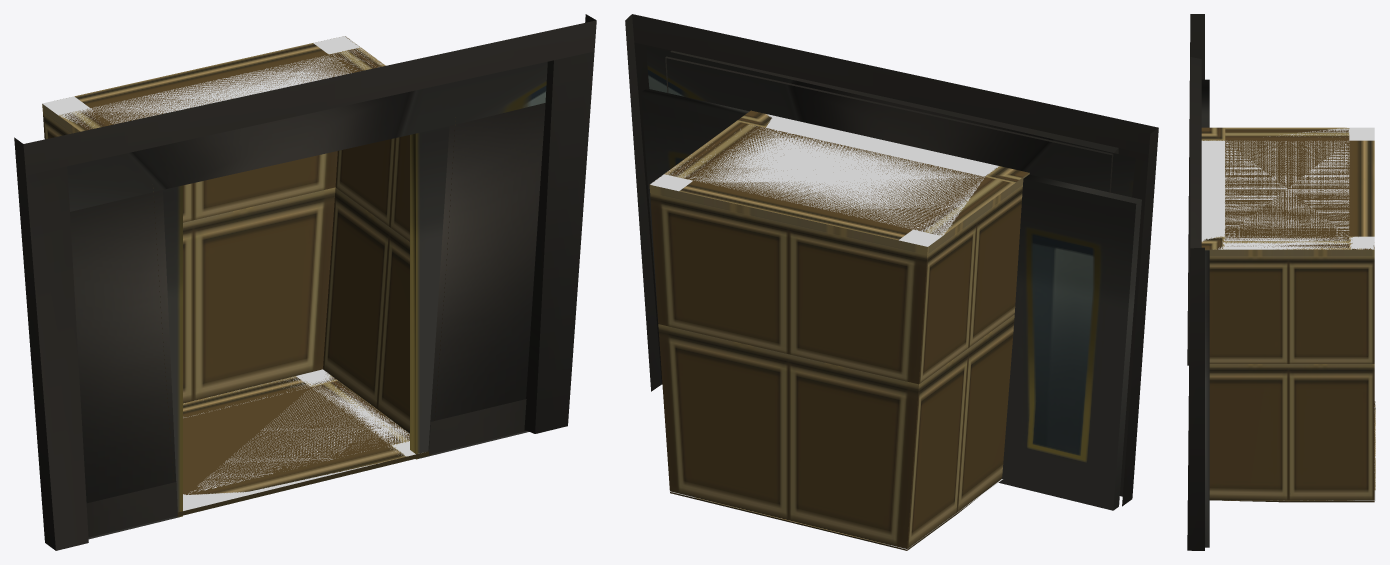
Rendered from cogdo_elevator.fbx.
3 renders of one model, left to right at view 1: azimuth 30°, elevation 25°; view 2: azimuth 150°, elevation 25°; view 3: azimuth 270°, elevation 25°, orthographic. The views are drawn at different scales.
Visible parts, largest first — view 1: elevator, frame, decal_base, decal_base1, unnamed2, unnamed3, right_door, ceiling, floor, decals (×2), left_door; view 2: elevator, left_door, frame, ceiling, unnamed3, right_door; view 3: elevator, unnamed3, ceiling, frame, right_door, left_door, unnamed2.
Part boxes in pixels (<box>): elevator: <box>42,62,547,516</box>; frame: <box>14,14,596,550</box>; decal_base: <box>428,103,545,451</box>; decal_base1: <box>70,190,176,503</box>; unnamed2: <box>183,373,409,494</box>; unnamed3: <box>59,36,385,131</box>; right_door: <box>410,125,528,459</box>; ceiling: <box>42,36,382,128</box>; floor: <box>183,369,415,510</box>; decals (×2): <box>86,399,526,537</box>; left_door: <box>88,185,182,539</box>; elevator: <box>646,46,1135,550</box>; left_door: <box>998,174,1141,510</box>; frame: <box>625,14,1158,506</box>; ceiling: <box>650,114,999,246</box>; unnamed3: <box>649,110,1028,240</box>; right_door: <box>641,88,749,322</box>; elevator: <box>1205,249,1374,502</box>; unnamed3: <box>1201,127,1374,249</box>; ceiling: <box>1201,127,1374,249</box>; frame: <box>1187,14,1204,550</box>; right_door: <box>1205,250,1209,547</box>; left_door: <box>1201,79,1209,127</box>; unnamed2: <box>1224,402,1375,500</box>.
Size of what is drawn, in the model's own units: 546 by 380 by 196.
3 materials, 2 textured.
